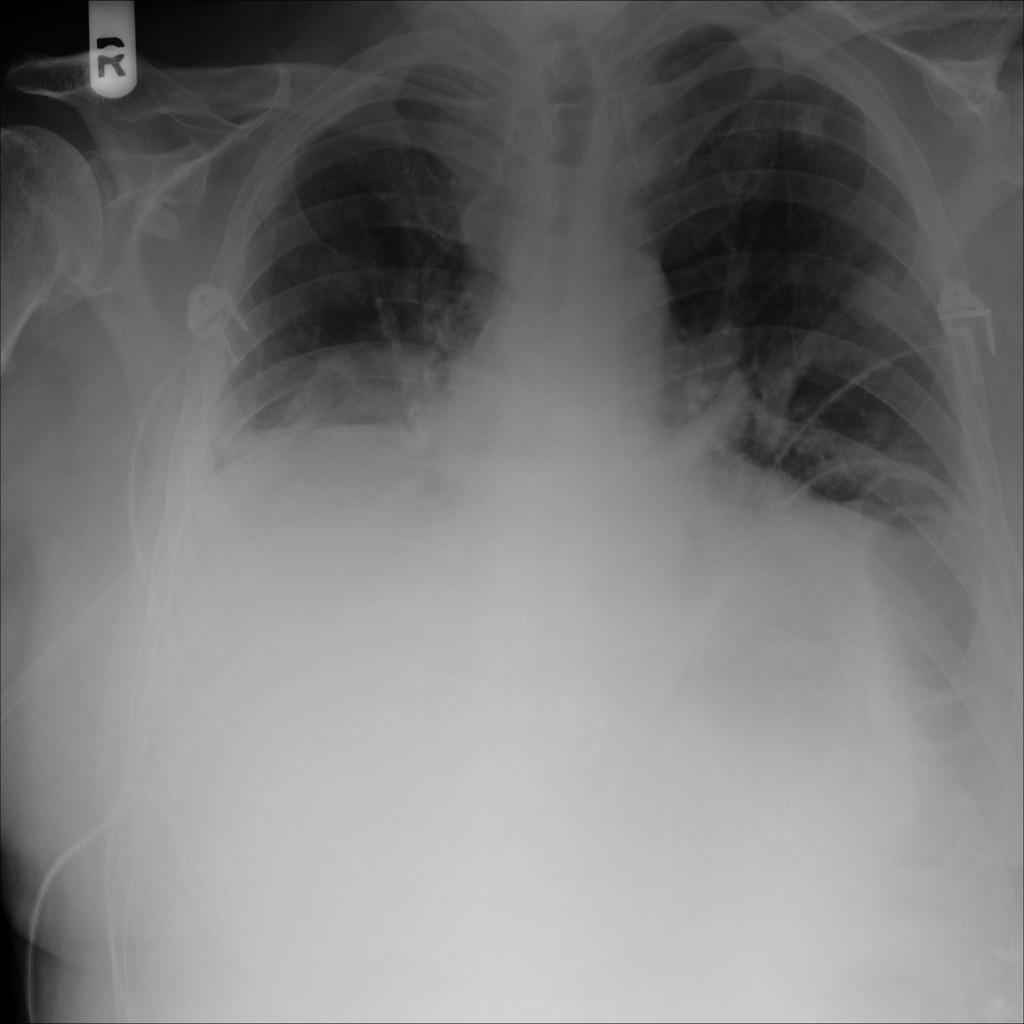nodule: (829, 237, 925, 351), (779, 90, 846, 165)
